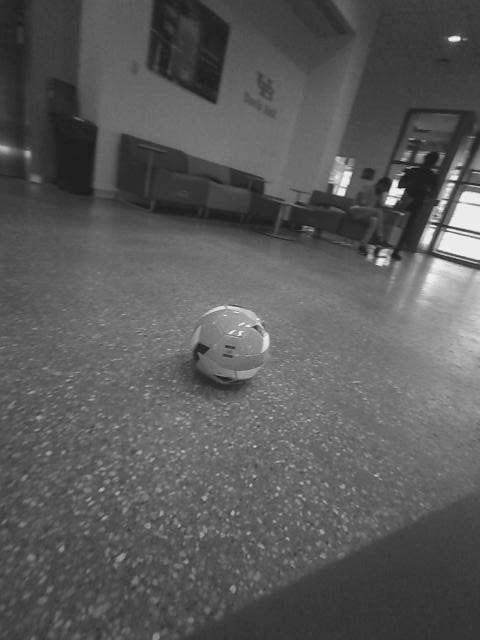ball: (321, 227, 336, 245)
